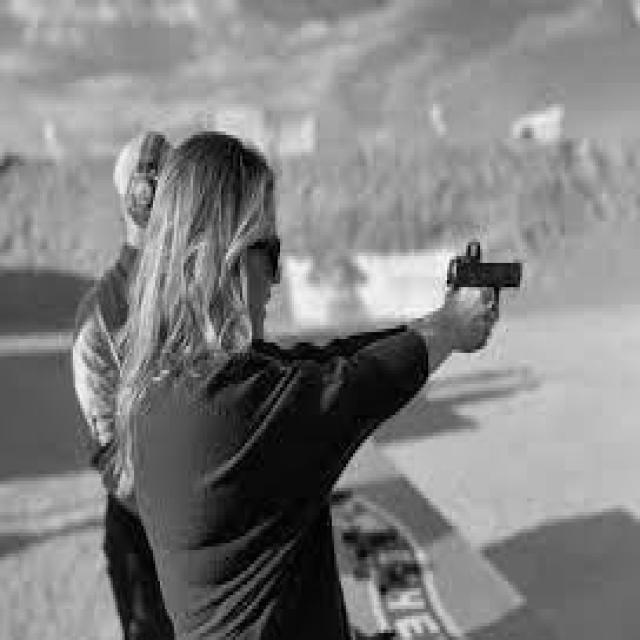gun: (449, 244, 523, 312)
